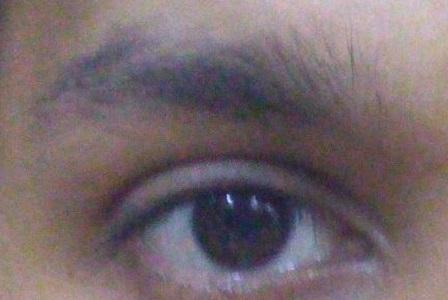open: (76, 131, 403, 300)
